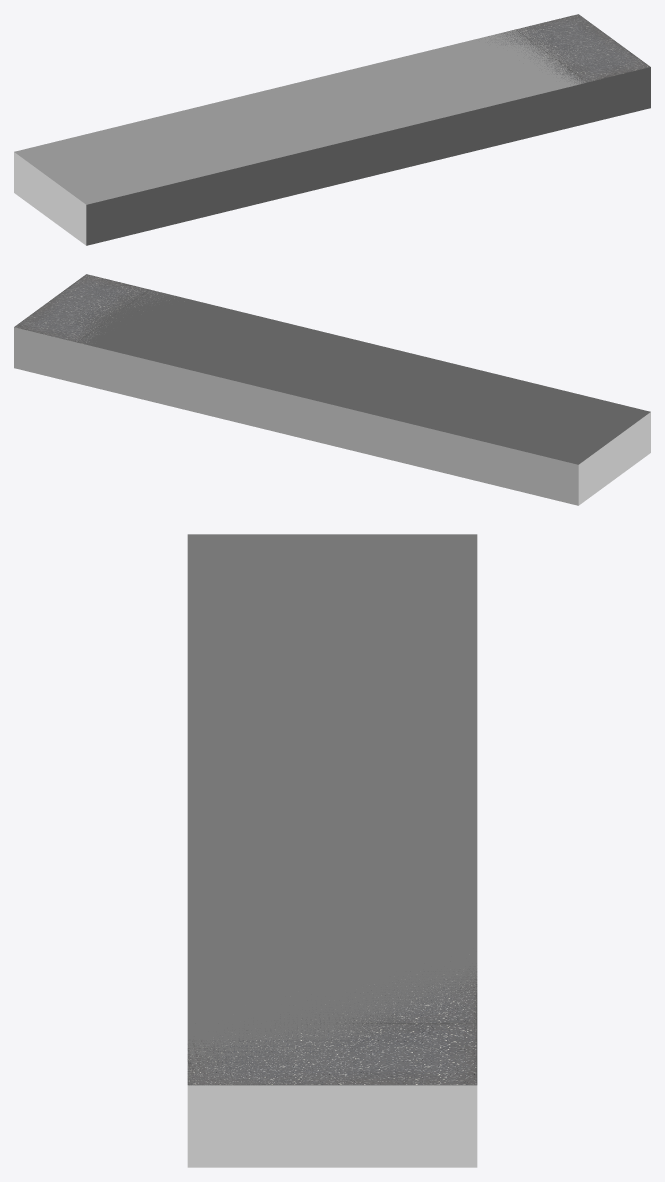
3 views of the same model, one above another, from view 1: azimuth 30°, elevation 25°; view 2: azimuth 150°, elevation 25°; view 3: azimuth 270°, elevation 25° (orthographic). The views are drawn at different scales.
Parts seen in each view (by area): view 1: SM_Floor_80x360_01a_ConvexHulls, SM_Floor_80x360_01a; view 2: SM_Floor_80x360_01a_ConvexHulls, SM_Floor_80x360_01a; view 3: SM_Floor_80x360_01a_ConvexHulls, SM_Floor_80x360_01a.
Boxes of the visible parts, left/top/right/bottom form: SM_Floor_80x360_01a_ConvexHulls: left=14, top=26, right=650, bottom=245; SM_Floor_80x360_01a: left=487, top=14, right=650, bottom=84; SM_Floor_80x360_01a_ConvexHulls: left=14, top=285, right=650, bottom=505; SM_Floor_80x360_01a: left=14, top=274, right=178, bottom=345; SM_Floor_80x360_01a_ConvexHulls: left=187, top=534, right=477, bottom=1167; SM_Floor_80x360_01a: left=187, top=966, right=477, bottom=1085.
Bounding box in the file's own units: 360 × 80 × 25.
Materials: 2 (1 with a texture image).
